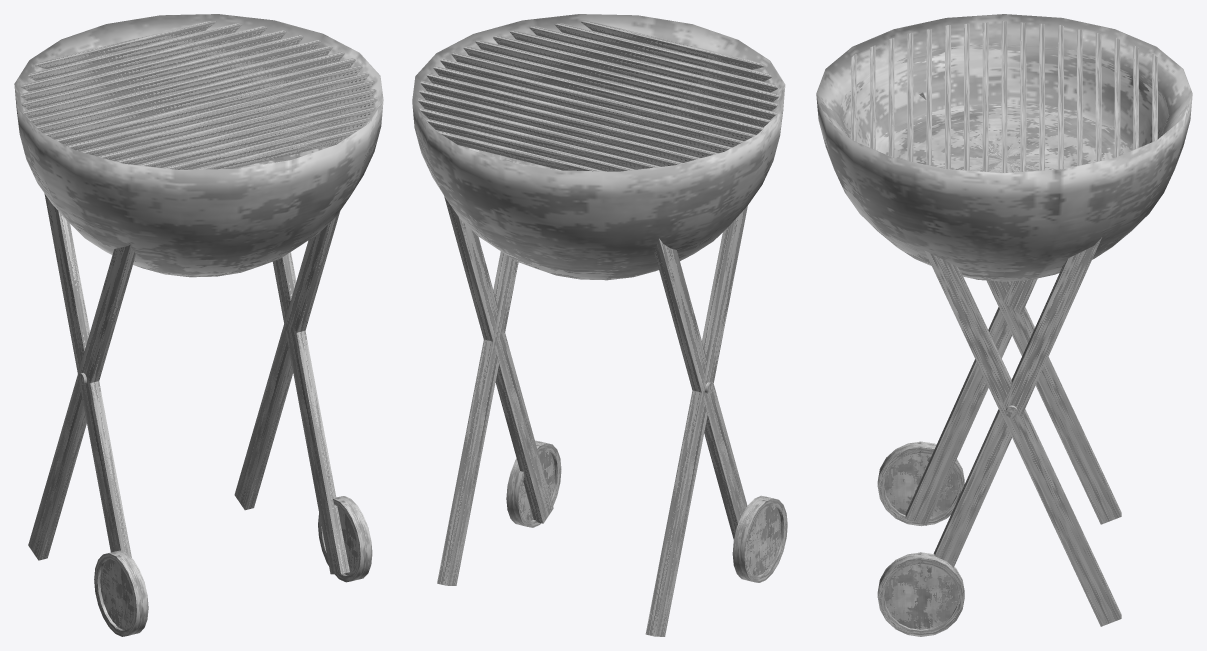
Rendered from grill.obj.
3 renders of one model, left to right at view 1: azimuth 30°, elevation 25°; view 2: azimuth 150°, elevation 25°; view 3: azimuth 270°, elevation 25°, orthographic.
Parts seen in each view (by area): view 1: grill:polySurface28; view 2: grill:polySurface28; view 3: grill:polySurface28.
Part boxes in pixels (x1,y1,x2,y2): grill:polySurface28: (14,14,383,636); grill:polySurface28: (412,14,787,636); grill:polySurface28: (816,14,1192,636).
Bounding box in the file's own units: 2 × 2.86 × 2.
